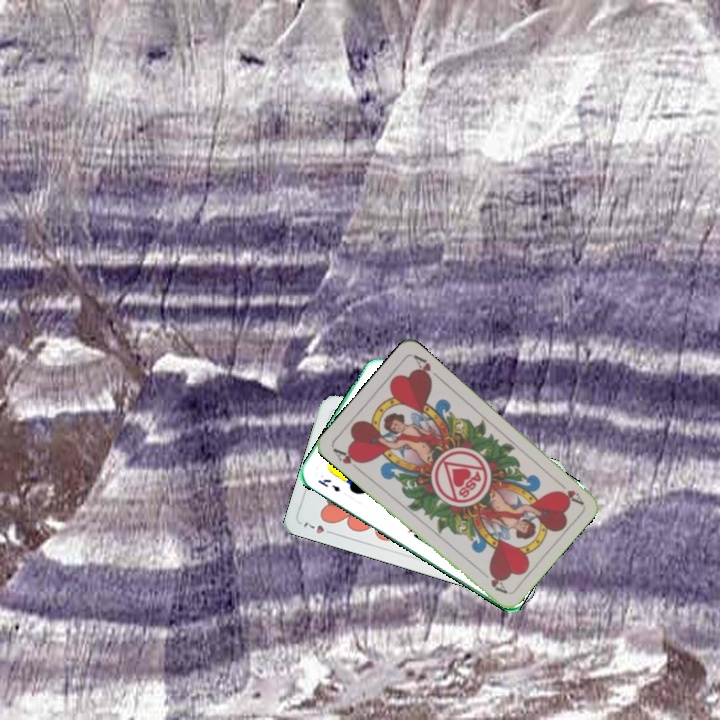EK: (314, 475, 343, 495)
H7: (299, 518, 338, 537)
HA: (551, 475, 585, 507), (329, 444, 364, 474)
